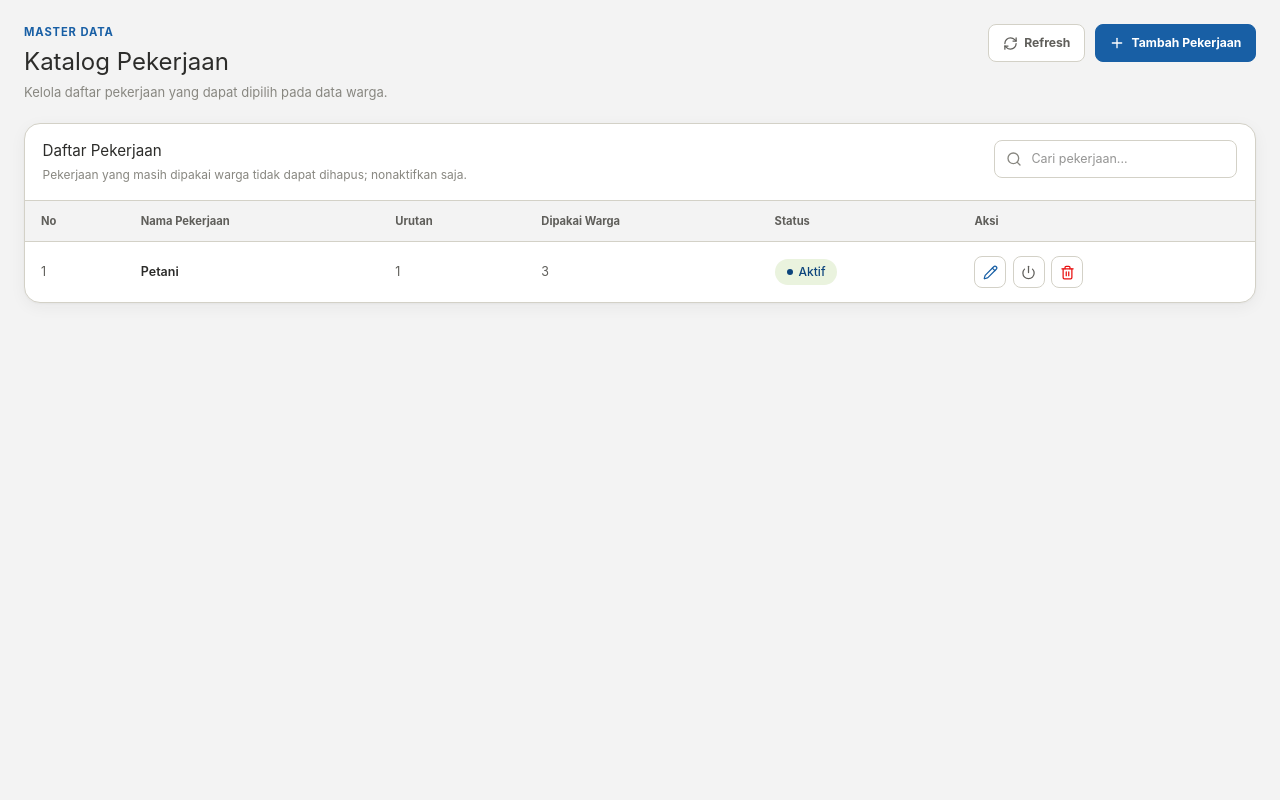
Scenario: KelolaPekerjaanPage status toggle › no longer has a status checkbox in the edit form
Click the button named "Edit Pekerjaan" at (990, 272), box [974,256,1006,288]
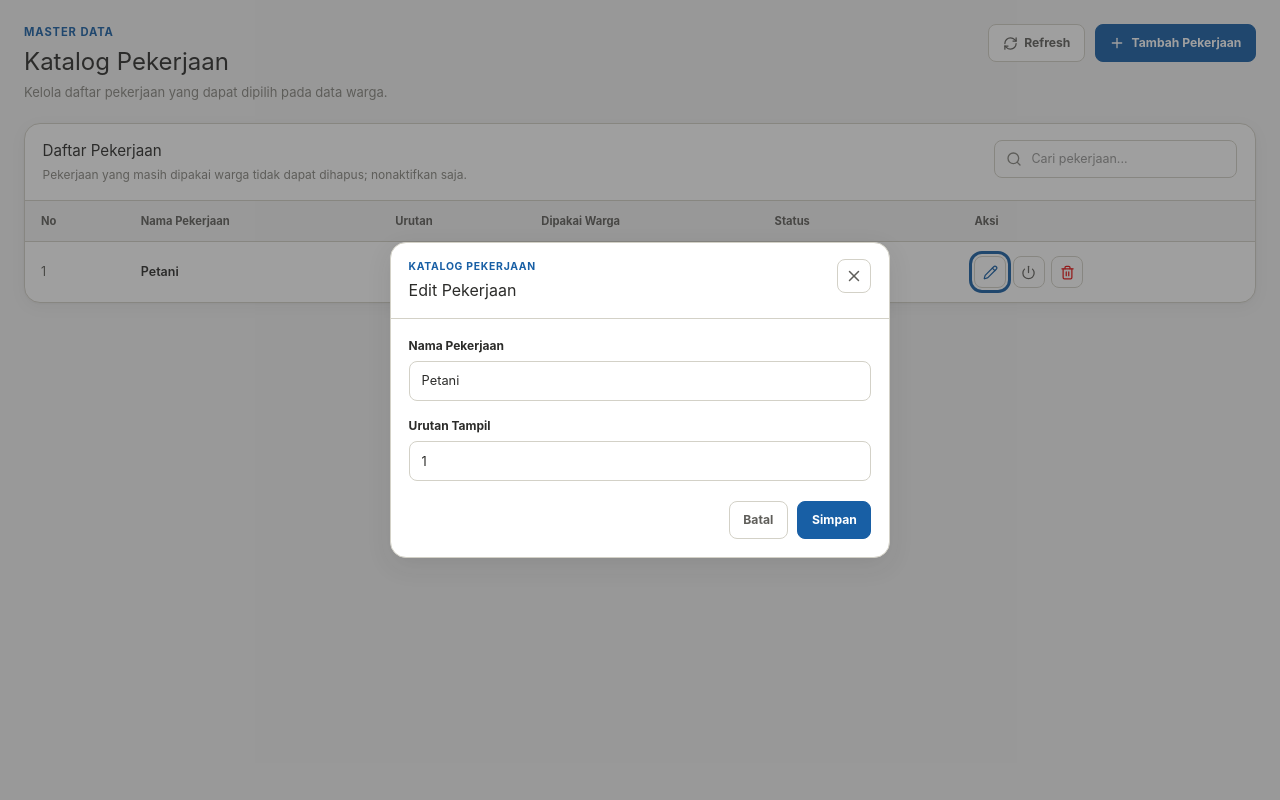
Result: the field labelled "Nama Pekerjaan" holds "Petani" at [409,361,871,401]
